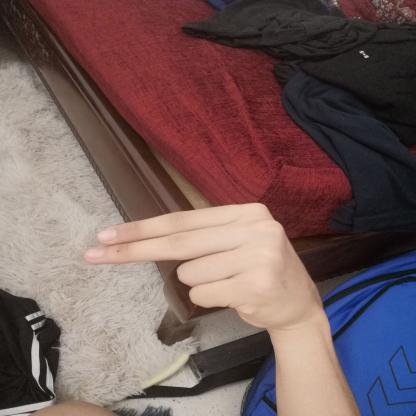AYN: (72, 190, 342, 338)
